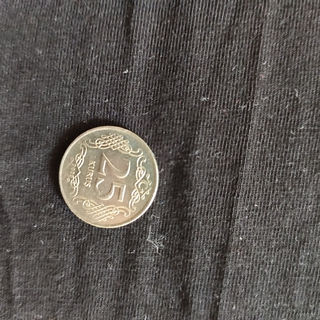25KURUS: (57, 124, 160, 230)
